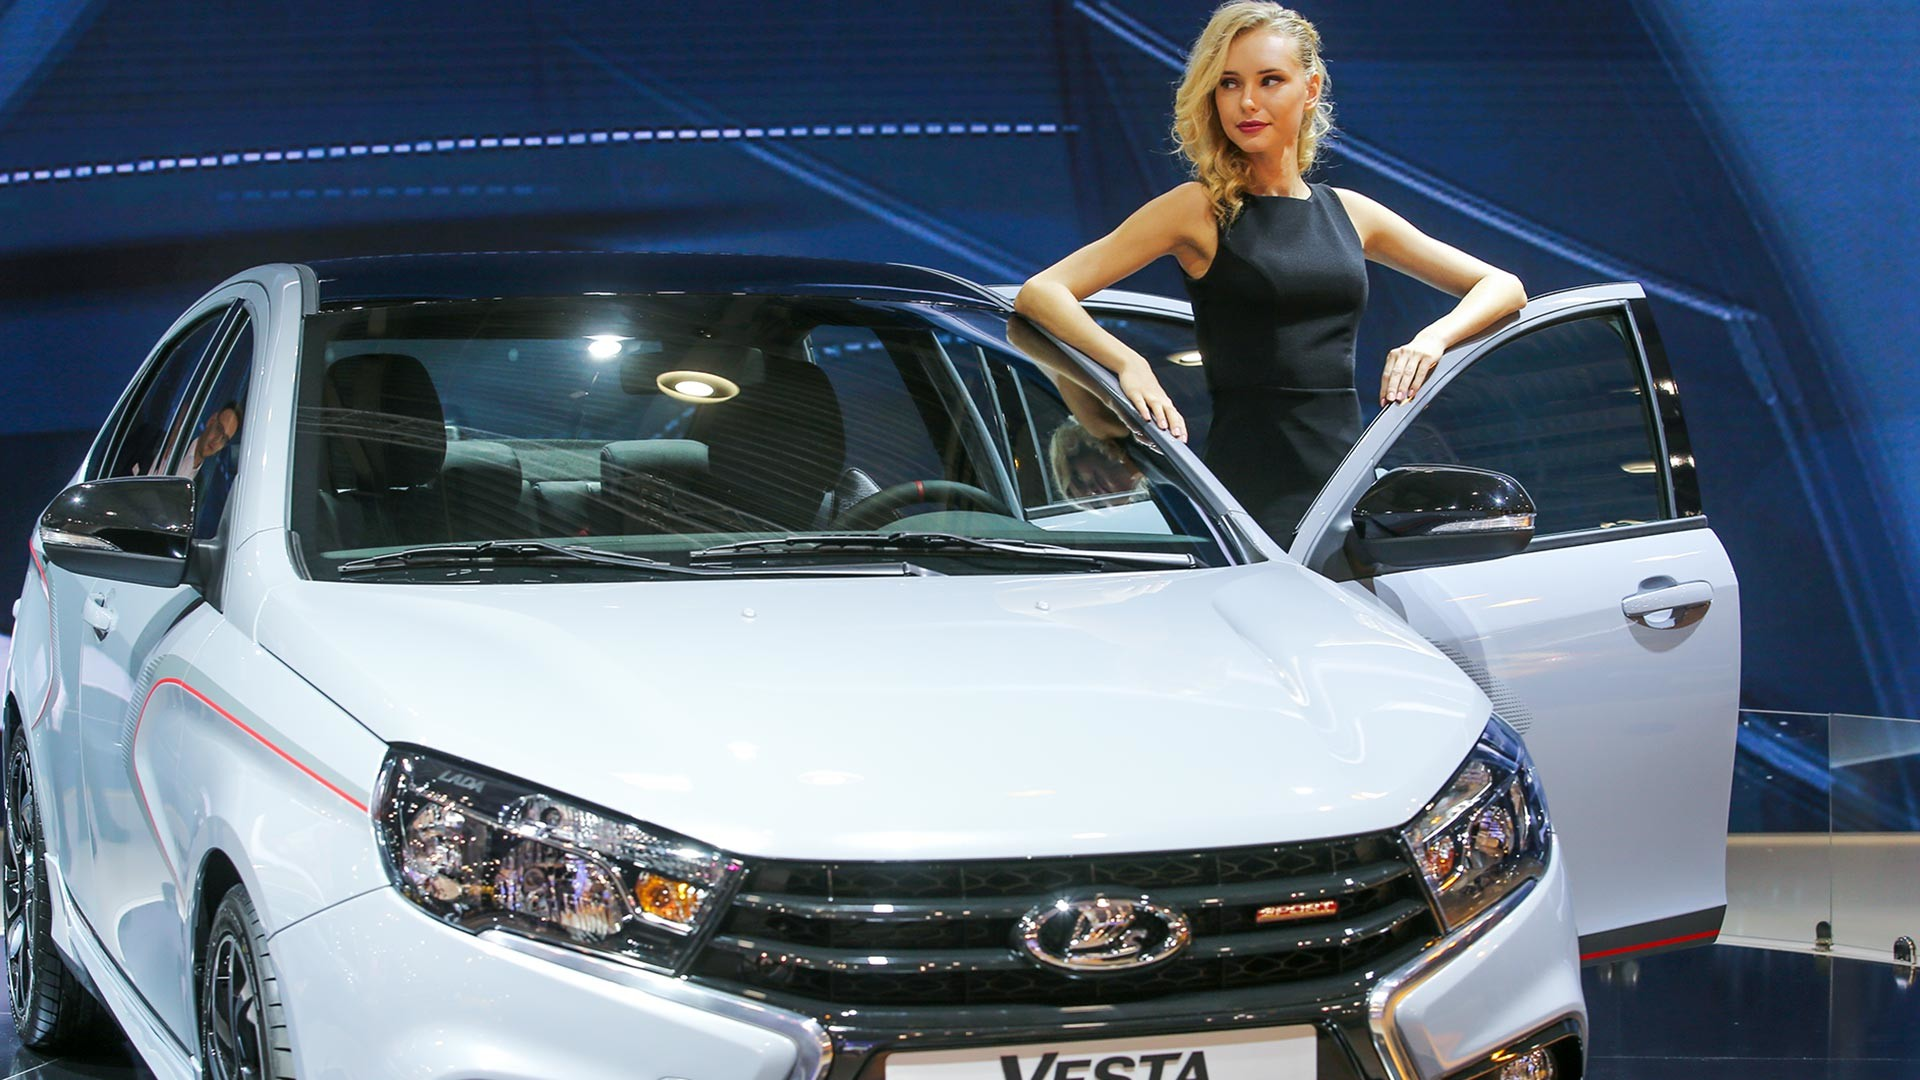car: (1, 232, 1747, 1080)
plate: (873, 1002, 1338, 1080)
